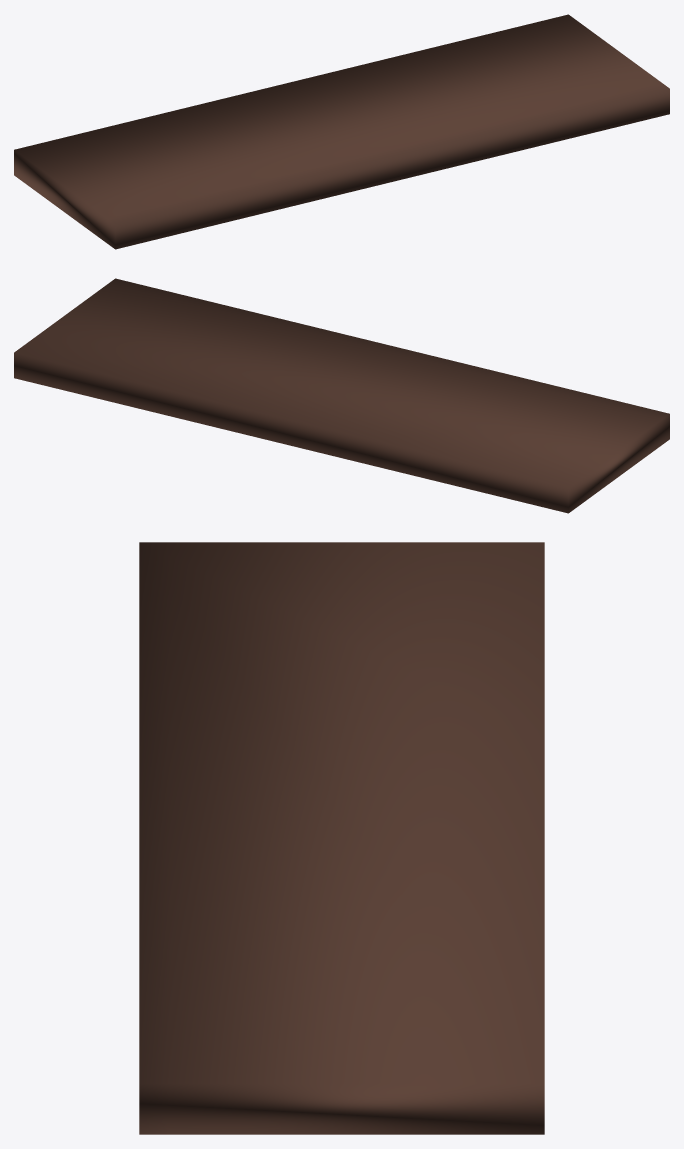
Rendered from SM_Prop_Podium_01.fbx.
The picture shows the model from 3 angles, top to bottom: view 1: azimuth 30°, elevation 25°; view 2: azimuth 150°, elevation 25°; view 3: azimuth 270°, elevation 25°; orthographic projection. The views are drawn at different scales.
Visible parts, largest first — view 1: SM_Prop_Podium_1; view 2: SM_Prop_Podium_1; view 3: SM_Prop_Podium_1.
Part boxes in pixels (x1,y1,x2,y2): SM_Prop_Podium_1: (14,14,669,249); SM_Prop_Podium_1: (14,278,669,513); SM_Prop_Podium_1: (139,542,544,1134).
Size of the model in its own units: 638 by 28.05 by 202.
1 material, 1 textured.
